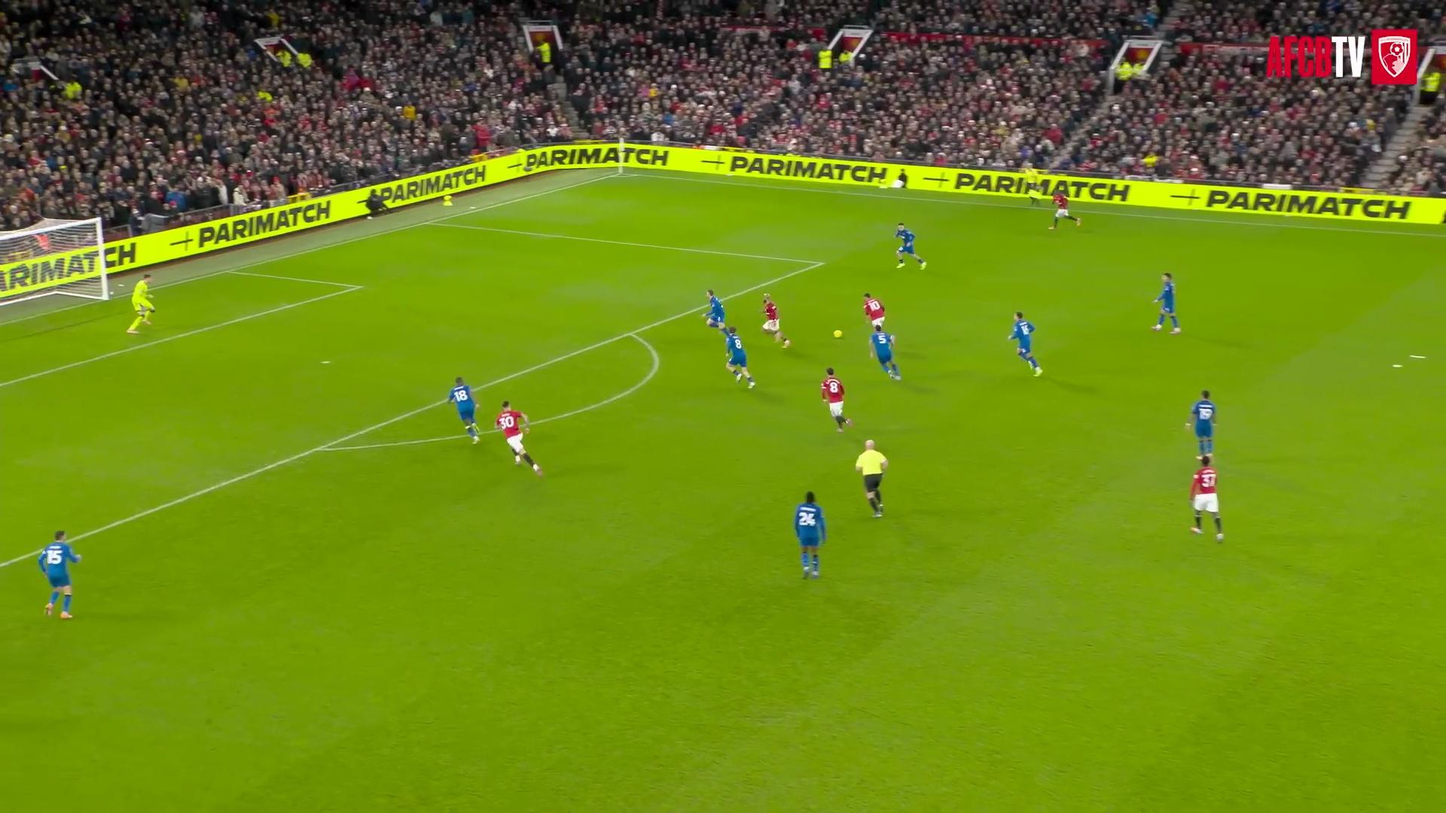football: (827, 323, 850, 344)
player: (38, 531, 80, 619), (495, 401, 541, 476), (1190, 455, 1222, 540), (794, 492, 825, 578), (1008, 312, 1042, 376), (448, 377, 480, 443), (1186, 390, 1216, 458), (821, 367, 852, 432), (725, 327, 755, 388), (1152, 273, 1180, 333), (870, 325, 901, 379), (127, 274, 155, 333), (762, 294, 790, 348), (895, 223, 926, 269), (1049, 192, 1081, 230), (704, 289, 725, 329), (863, 293, 885, 327)
referee: (856, 440, 887, 517), (1023, 166, 1042, 206)
